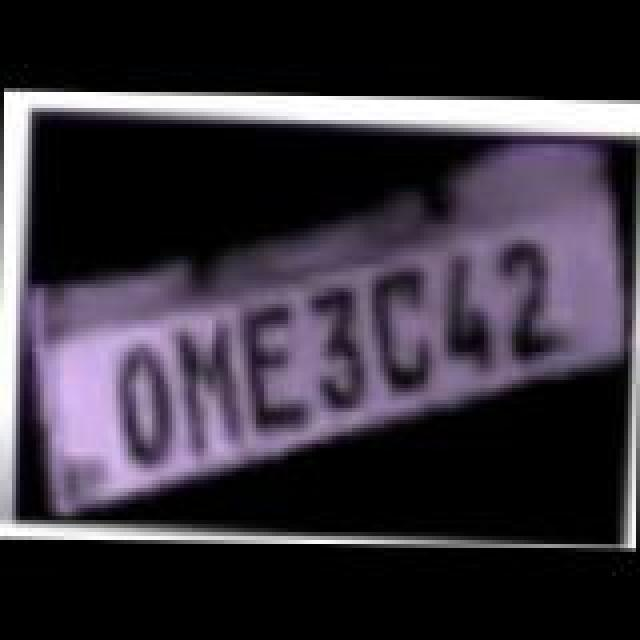2: (482, 238, 582, 370)
3: (288, 286, 384, 418)
4: (422, 254, 506, 382)
C: (358, 272, 450, 404)
E: (226, 304, 326, 440)
M: (158, 318, 262, 462)
O: (98, 342, 194, 474)
